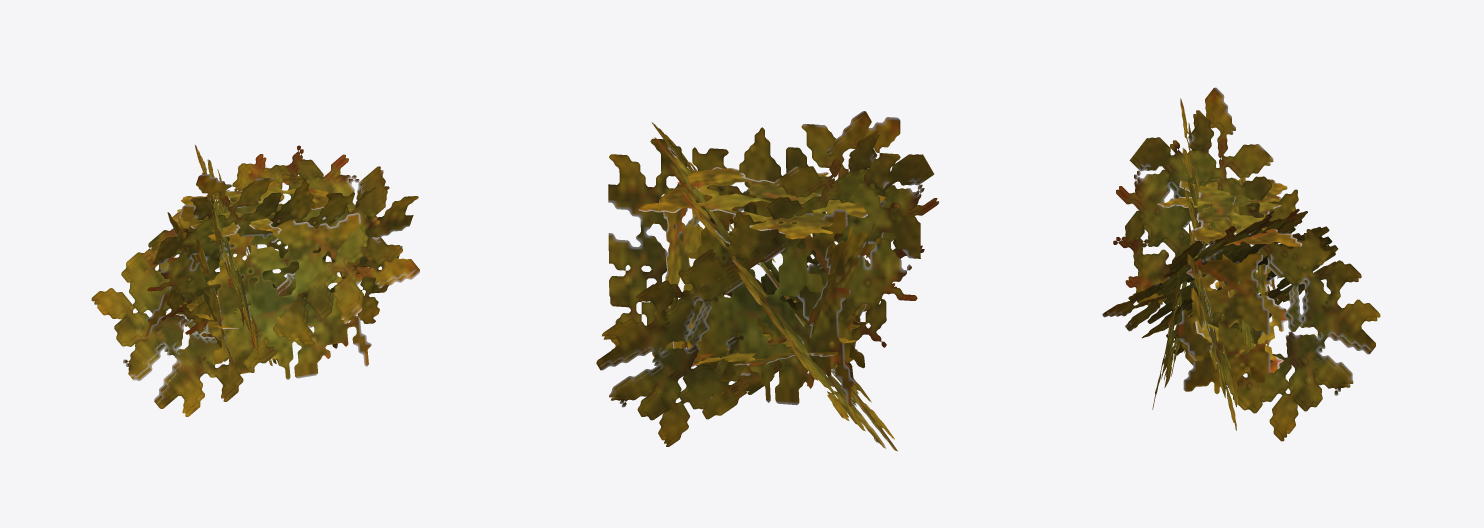
File: beech_leaves_orangeish_vertical_slab_3.obj
3 renders of one model, left to right at view 1: azimuth 30°, elevation 25°; view 2: azimuth 150°, elevation 25°; view 3: azimuth 270°, elevation 25°, orthographic. The views are drawn at different scales.
Parts seen in each view (by area): view 1: cube; view 2: cube; view 3: cube.
Part boxes in pixels (x1,y1,x2,y2): cube: [91, 145, 419, 416]; cube: [596, 111, 938, 451]; cube: [1102, 87, 1380, 441].
Size of the model in its own units: 2.25 by 2.85 by 2.69.
